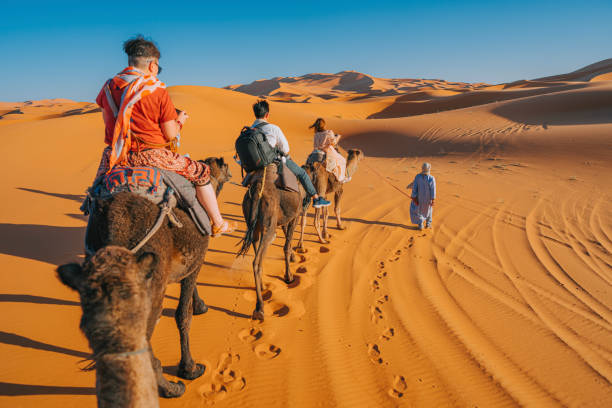animal_foot_print: (198, 352, 245, 404), (214, 367, 245, 390), (198, 382, 227, 404), (216, 352, 239, 371), (388, 375, 407, 397), (254, 343, 280, 359), (264, 301, 290, 316), (238, 327, 262, 342), (367, 343, 382, 363), (370, 306, 383, 323), (287, 275, 300, 288), (380, 328, 394, 339), (262, 288, 272, 300), (376, 295, 388, 304), (295, 266, 307, 273), (371, 280, 379, 290), (319, 246, 330, 253), (295, 247, 307, 253), (377, 270, 386, 278), (298, 254, 306, 262), (378, 261, 384, 268), (395, 249, 401, 255)
